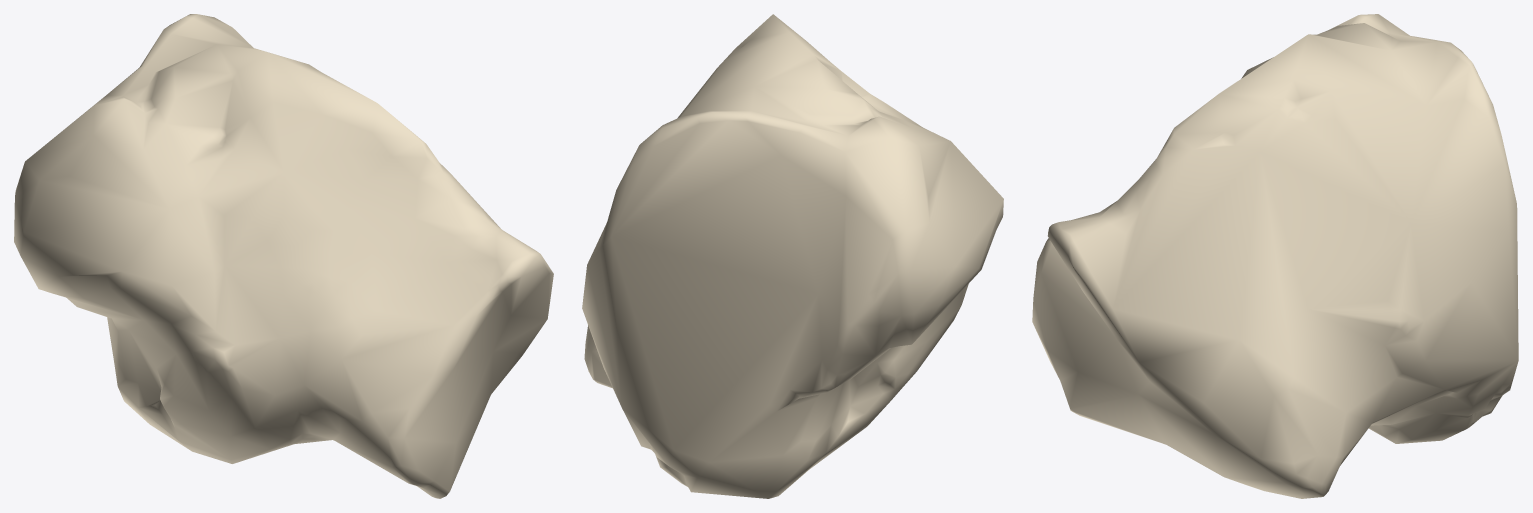
File: cuboid-bone-l.glb
The picture shows the model from 3 angles, left to right: view 1: azimuth 30°, elevation 25°; view 2: azimuth 150°, elevation 25°; view 3: azimuth 270°, elevation 25°; orthographic projection. The views are drawn at different scales.
Parts seen in each view (by area): view 1: Cuboid bone.l; view 2: Cuboid bone.l; view 3: Cuboid bone.l.
Boxes of the visible parts, bbox=[...] form: Cuboid bone.l: bbox=[14, 14, 553, 498]; Cuboid bone.l: bbox=[582, 14, 1003, 498]; Cuboid bone.l: bbox=[1032, 14, 1518, 498].
Bounding box in the file's own units: 0.0322 × 0.0309 × 0.0342.
